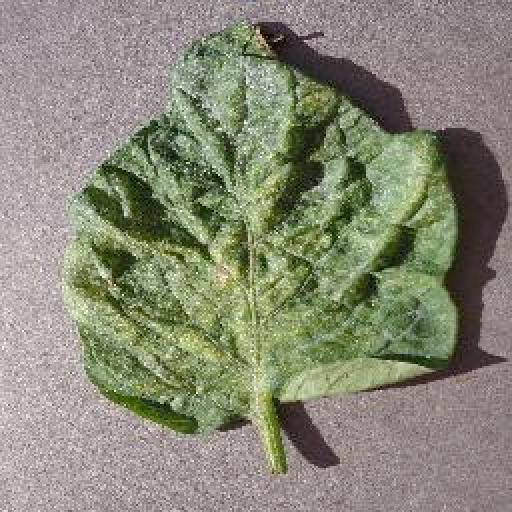disease_tomato: (64, 17, 462, 439)
